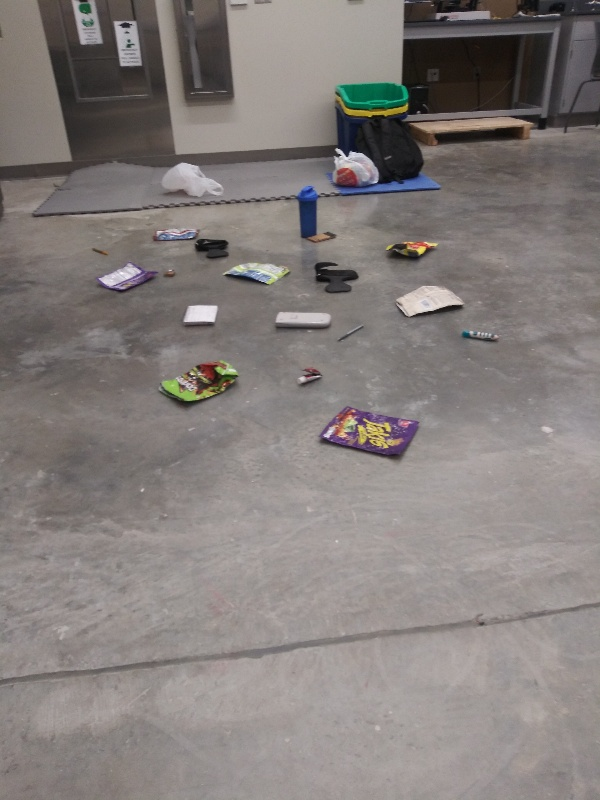bag: (317, 406, 423, 464), (151, 356, 248, 408), (387, 281, 468, 323), (90, 258, 162, 295), (219, 259, 294, 288), (381, 236, 443, 265), (149, 225, 204, 248)
